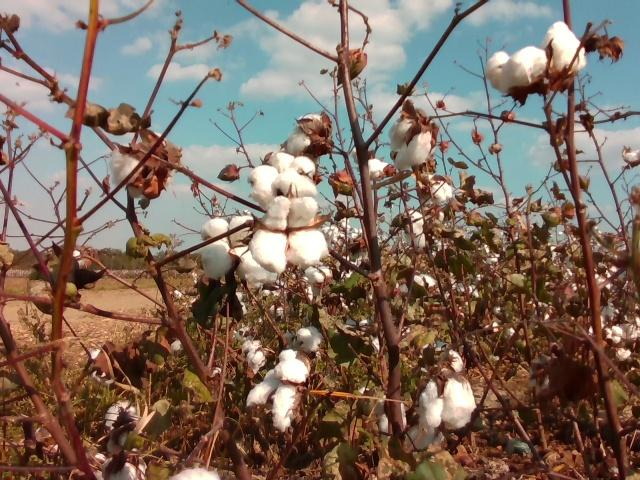cotton_ready: (484, 20, 586, 96), (250, 197, 331, 273), (200, 215, 279, 286), (246, 349, 311, 434), (417, 351, 476, 431), (108, 131, 167, 189), (246, 152, 320, 198), (388, 117, 433, 170), (283, 114, 326, 157), (295, 325, 325, 351), (169, 467, 224, 480)
